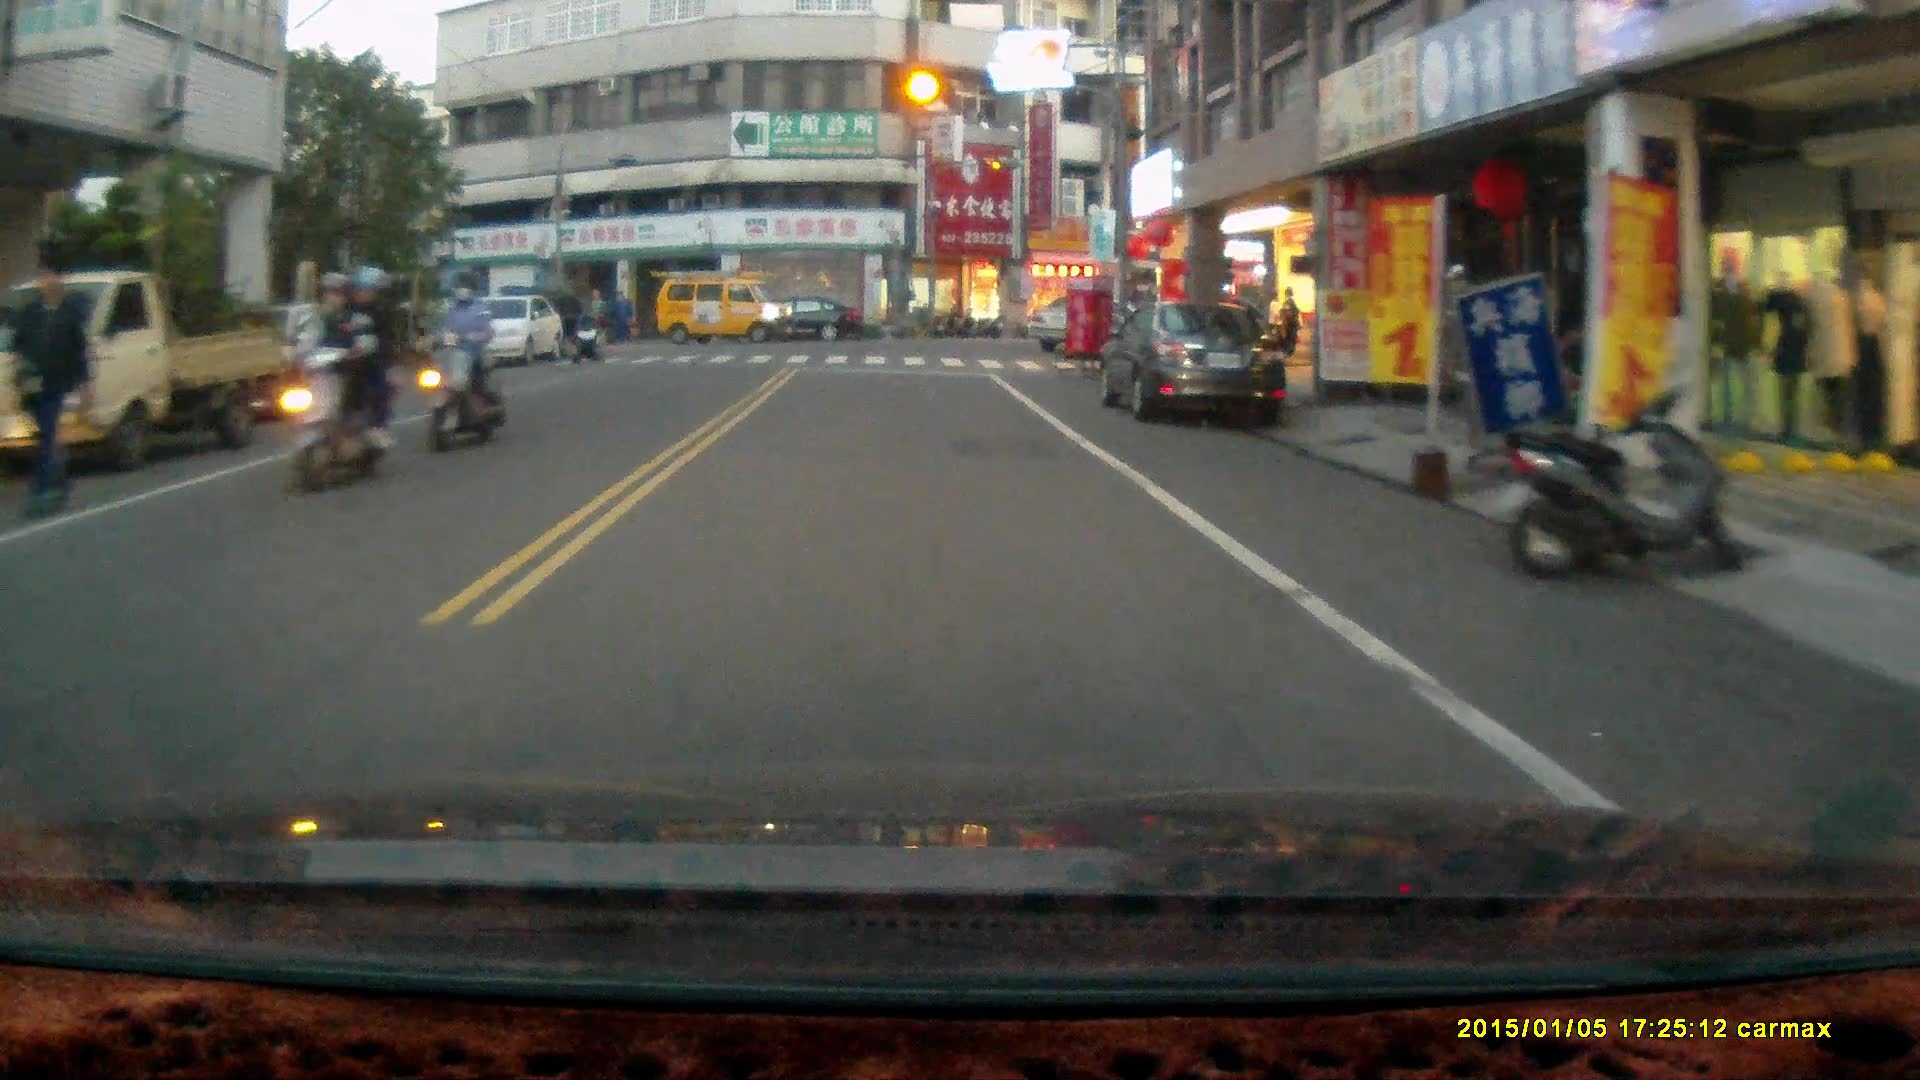pedestrian: (8, 258, 97, 514), (1277, 282, 1301, 362)
rider: (280, 259, 395, 496), (416, 269, 507, 454), (568, 307, 608, 365)
vehicle: (1, 267, 314, 473), (1092, 291, 1299, 436), (656, 265, 794, 342), (436, 289, 562, 367), (746, 290, 865, 341)
